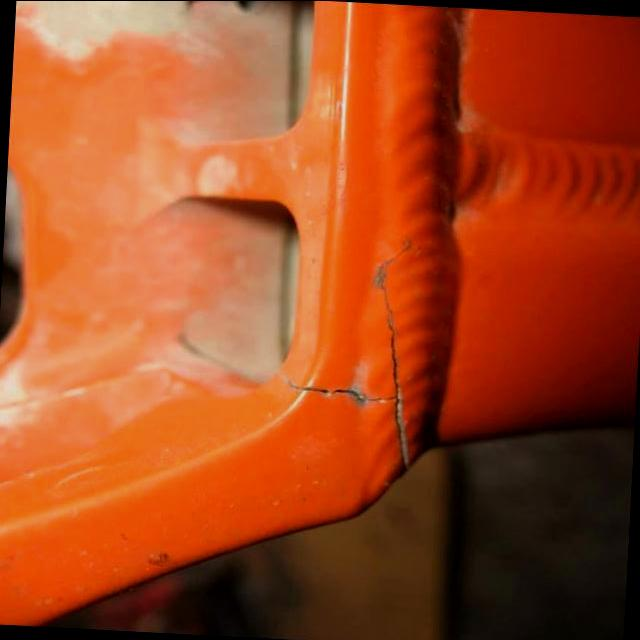defect: (274, 232, 419, 469)
